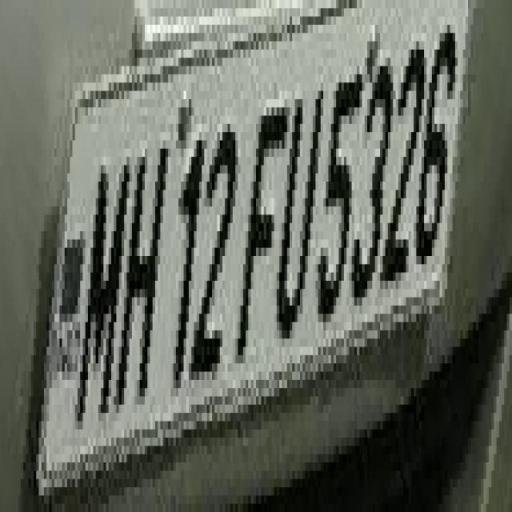number plate: (17, 16, 512, 437)
